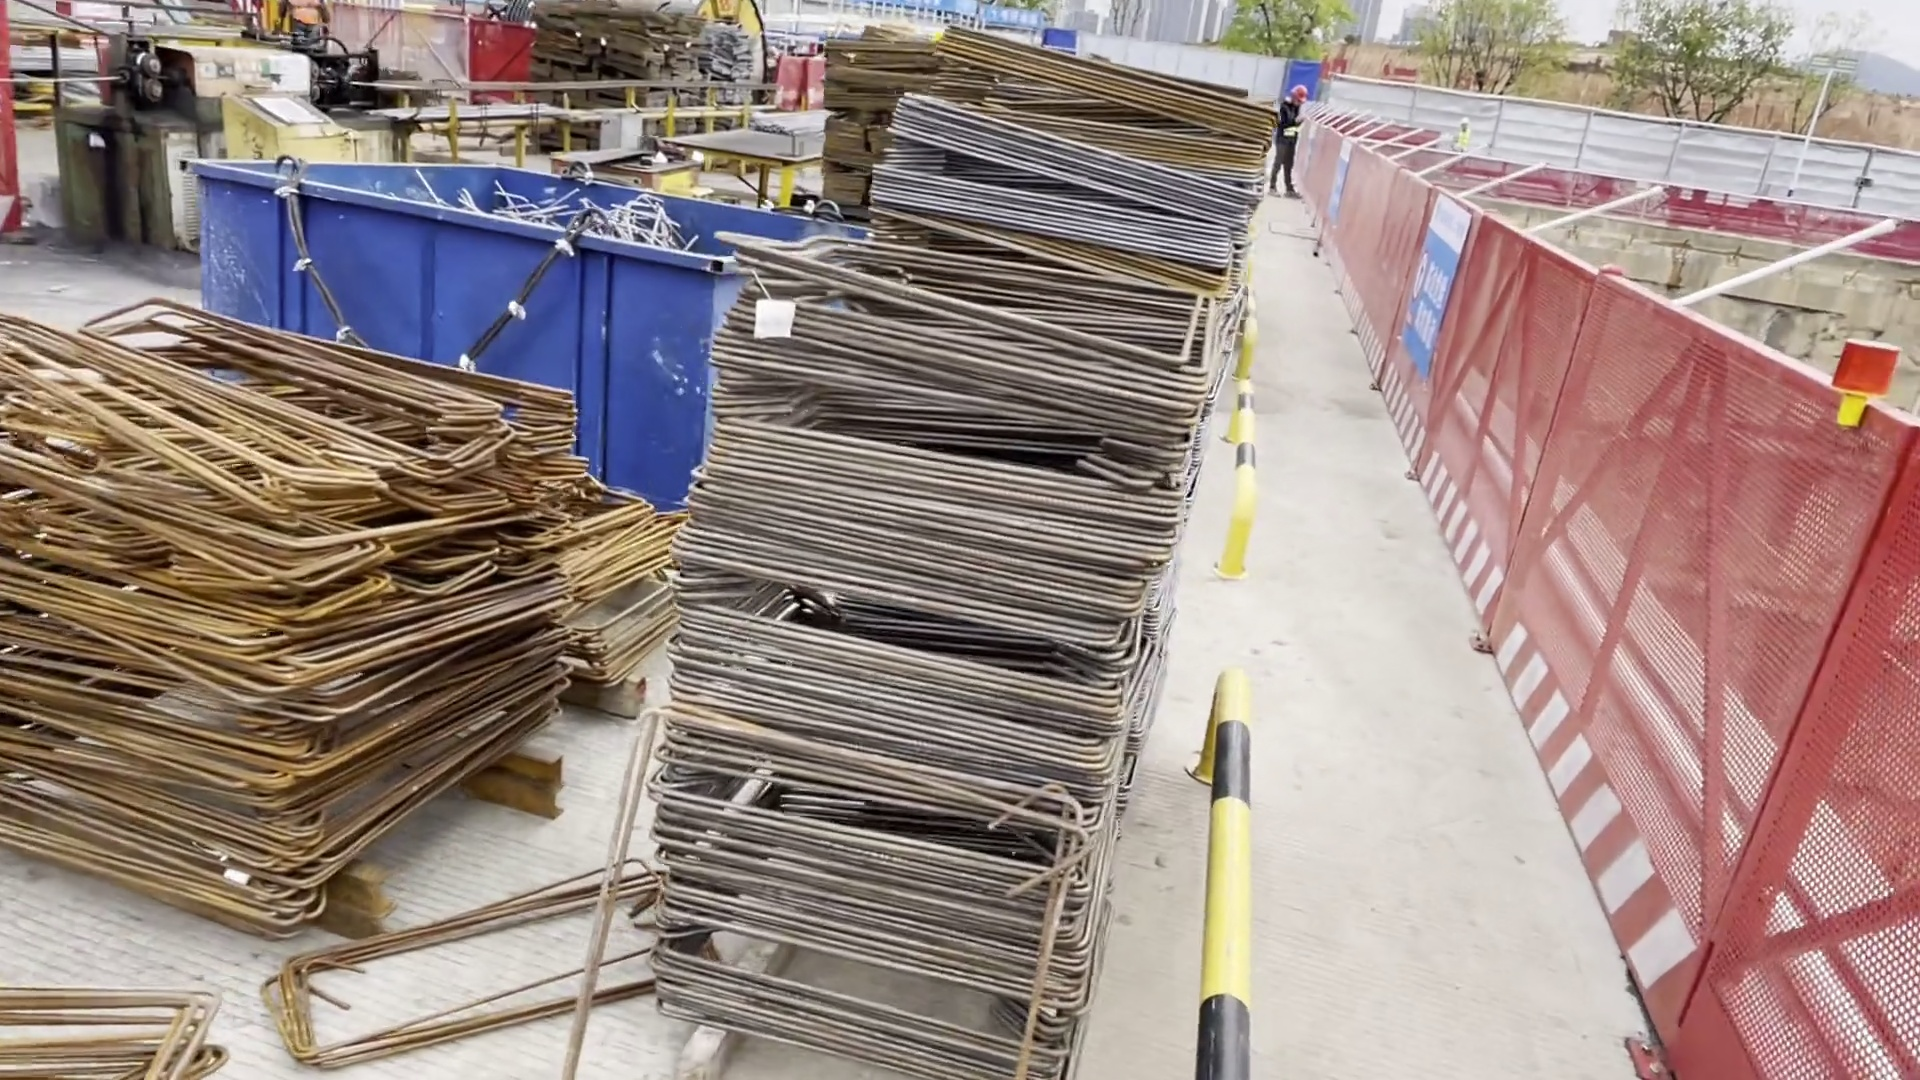cutter: (565, 144, 689, 197)
fence: (1477, 216, 1920, 1070), (1369, 153, 1473, 463), (1295, 123, 1366, 267)
helmet: (1289, 83, 1304, 97)
hopper: (212, 154, 837, 497)
person: (1272, 84, 1302, 193), (280, 1, 326, 46), (1455, 119, 1469, 158)
slogan: (1386, 199, 1466, 378), (899, 1, 1049, 32)
vest: (1279, 108, 1300, 142), (1457, 135, 1467, 150)
